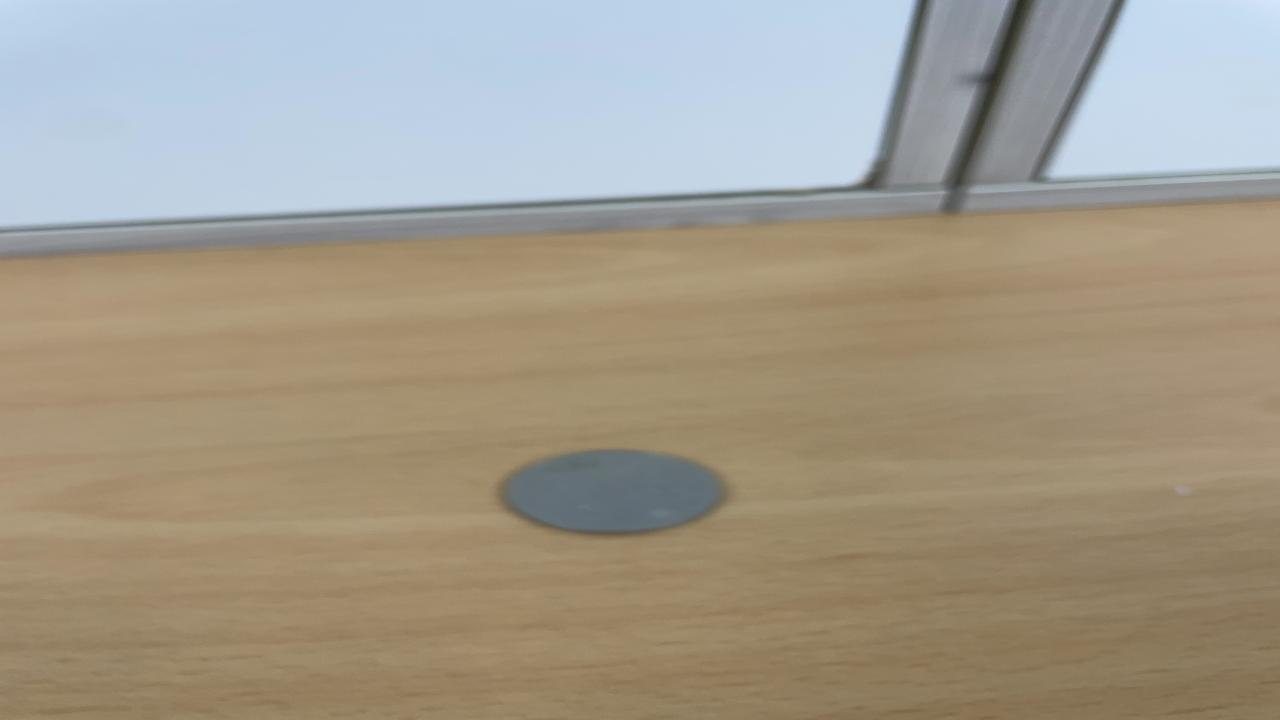coin: (496, 447, 730, 535)
